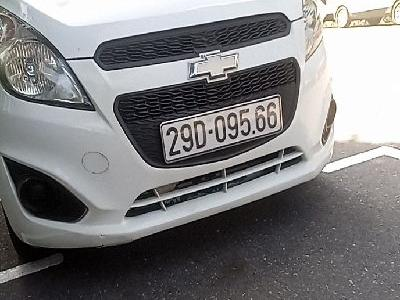number: (159, 97, 283, 164)
